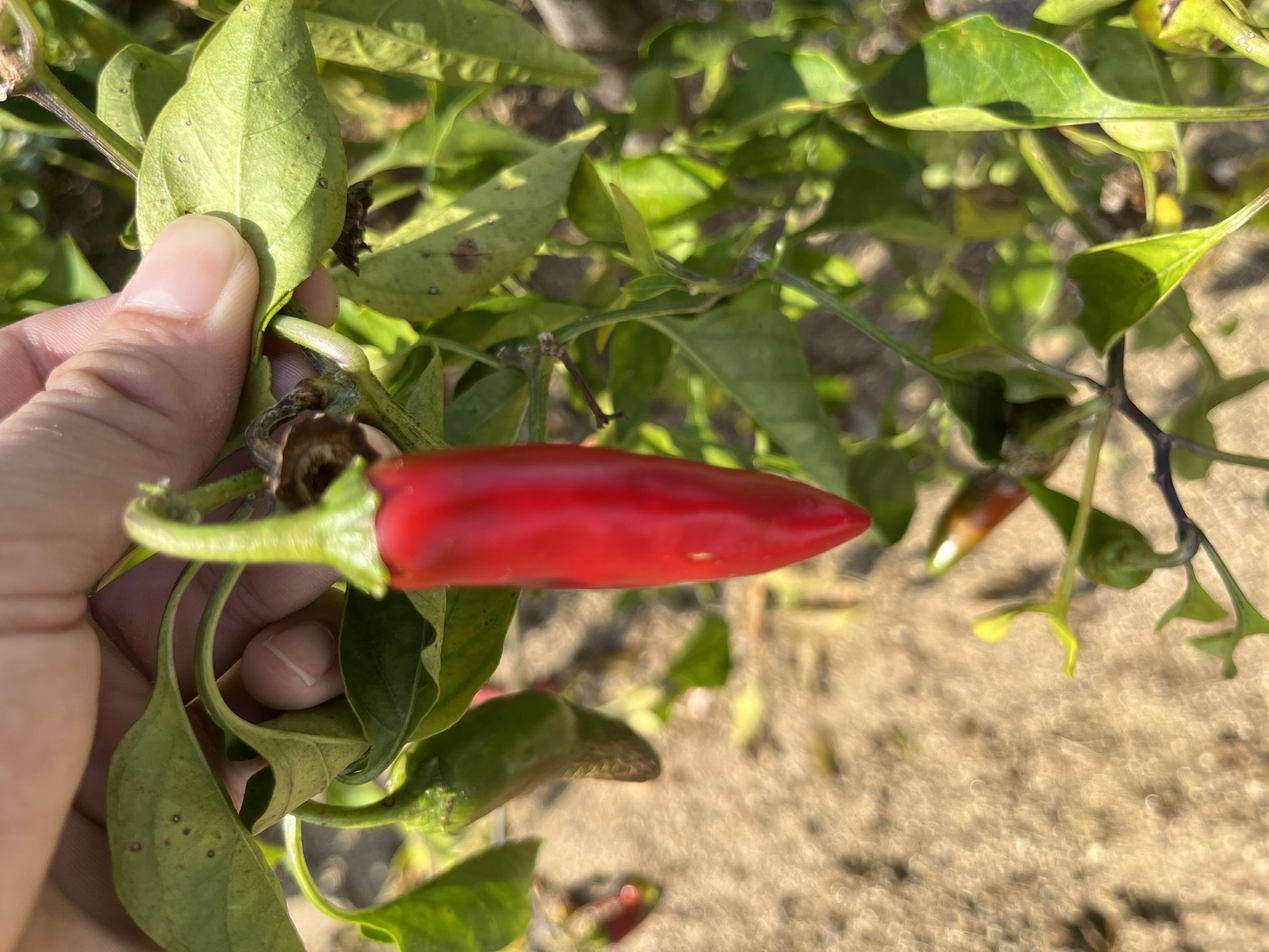Buah Cabai Sehat: (446, 233, 693, 663)
